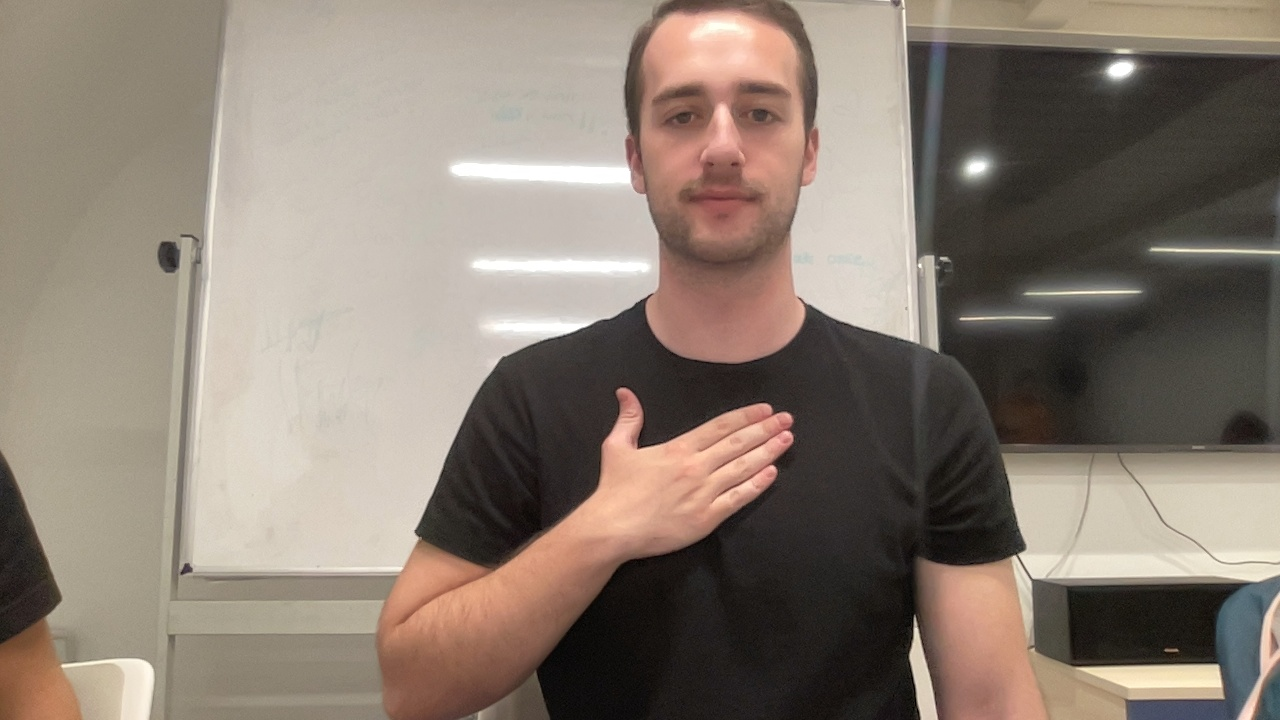Please: (375, 383, 800, 720)
